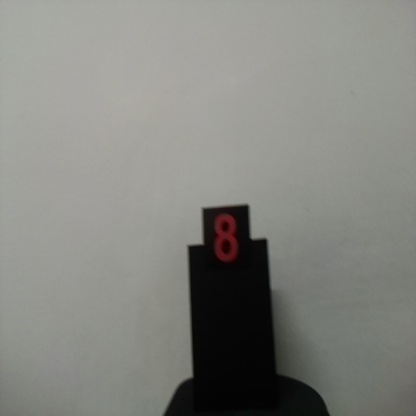id_8: (202, 207, 250, 282)
